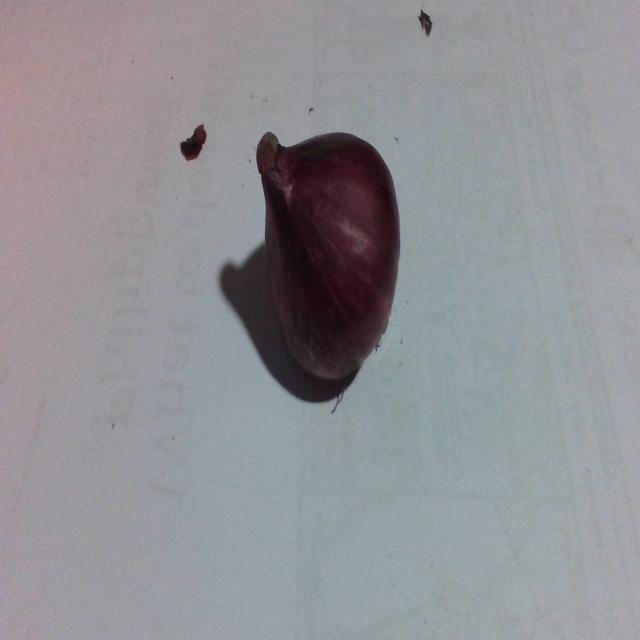onion: (254, 103, 404, 397)
